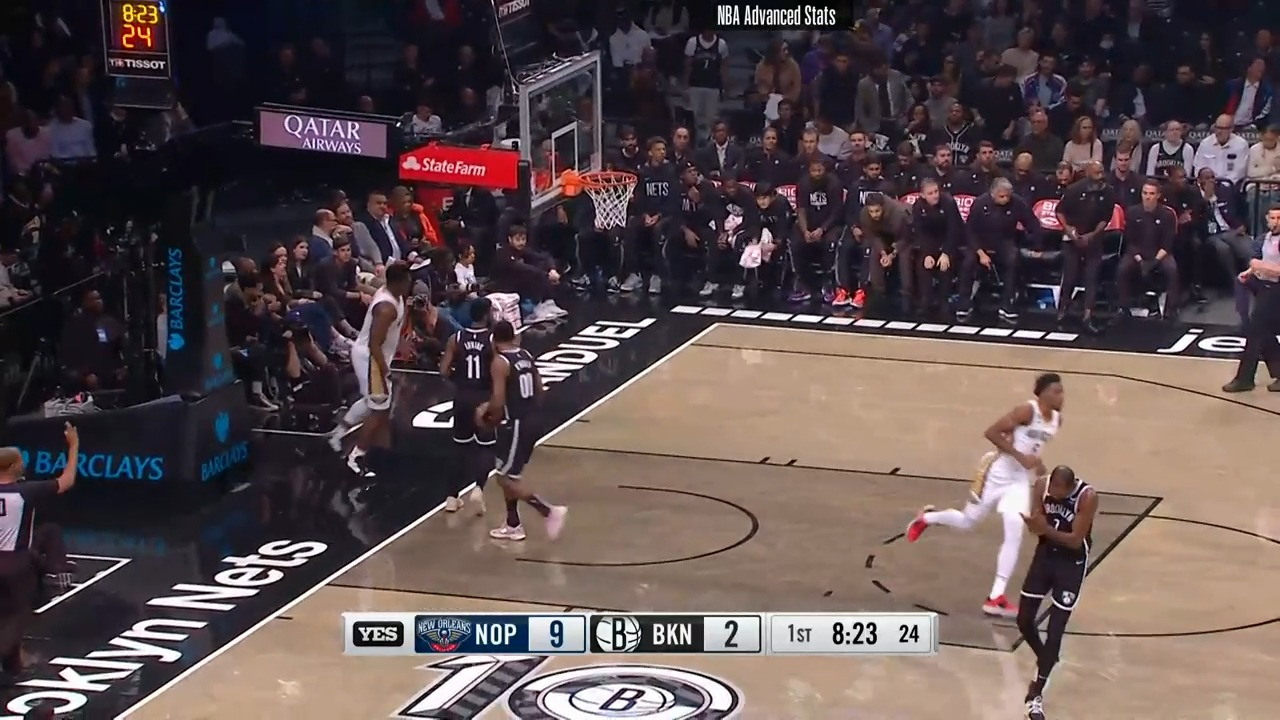net: (558, 161, 640, 232)
player: (898, 373, 1077, 567), (1010, 463, 1113, 720), (467, 315, 564, 543), (334, 262, 420, 478), (441, 298, 499, 524)
referee: (0, 413, 83, 698), (1231, 203, 1280, 404)
